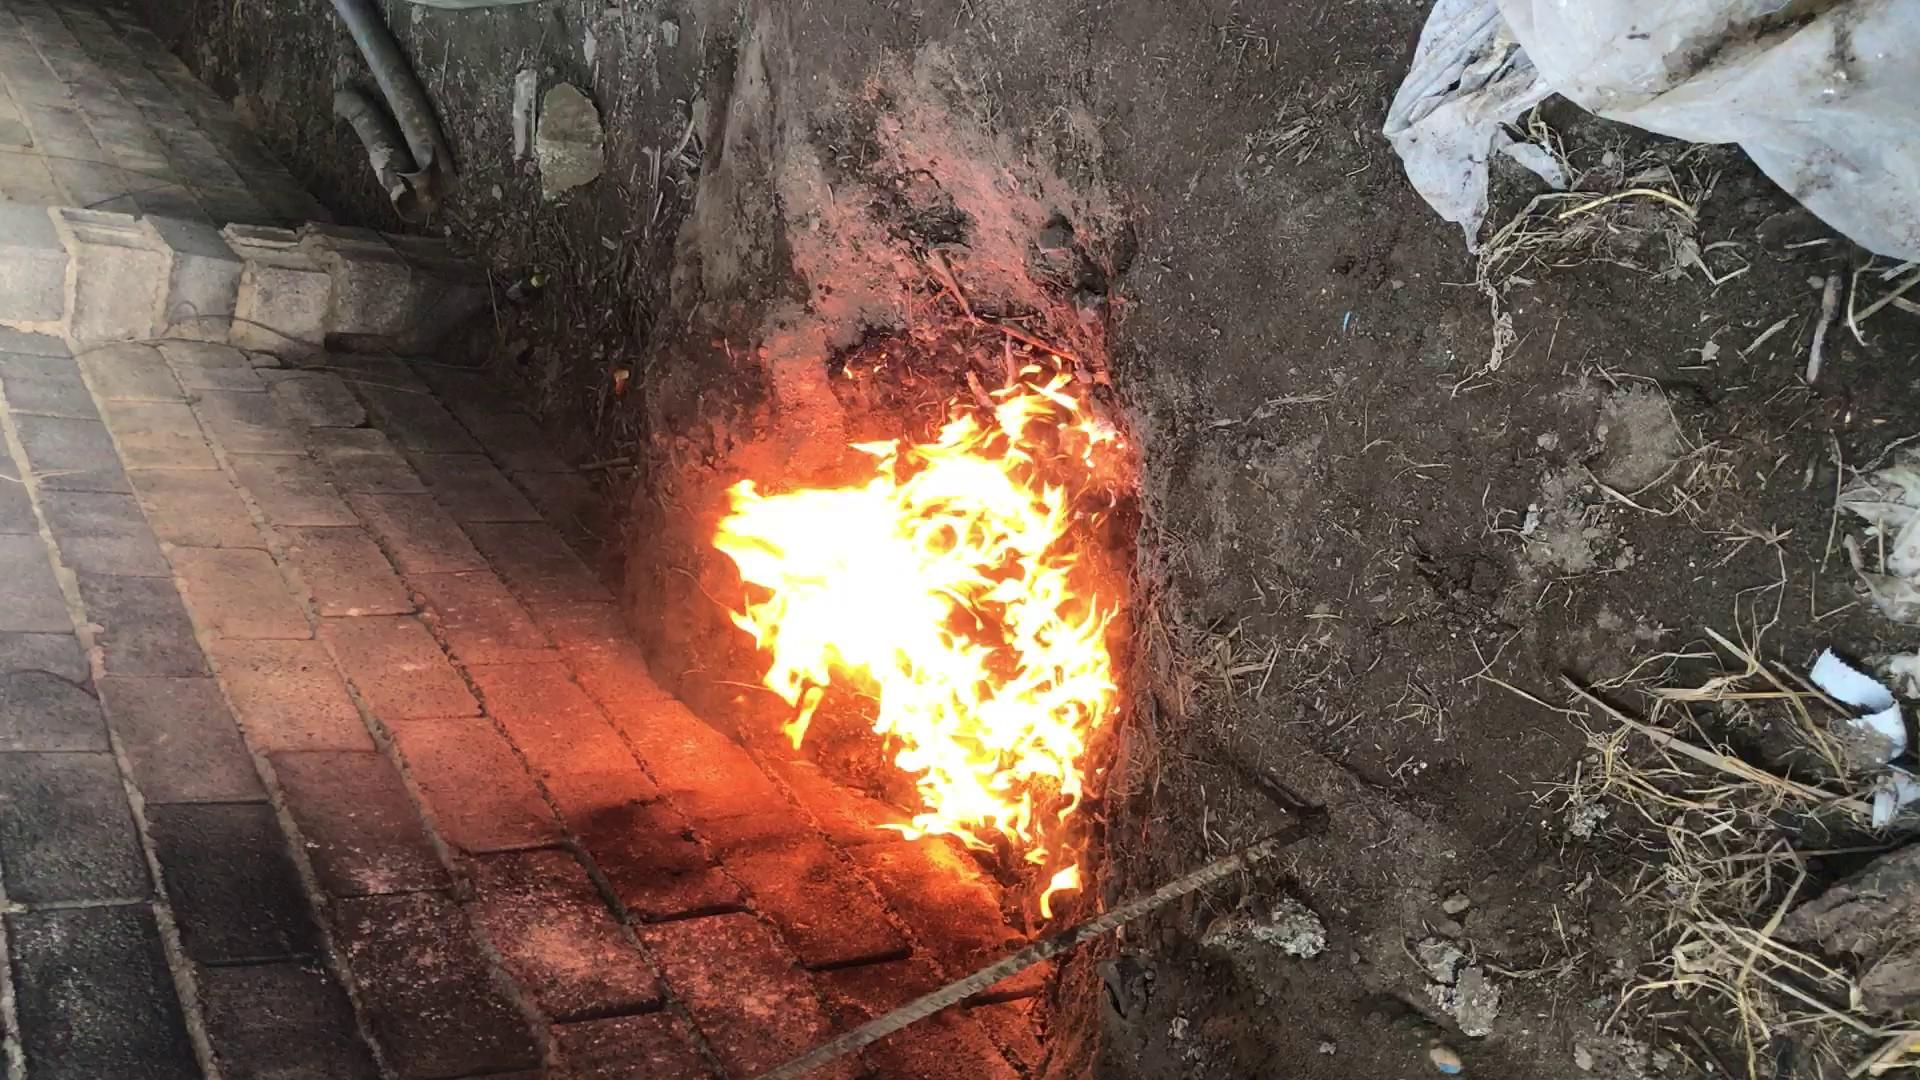fire: (444, 406, 1307, 629)
